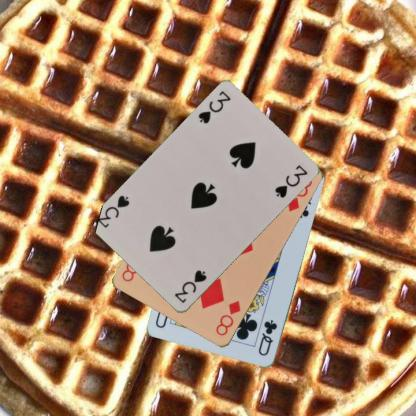3s: (195, 88, 232, 126), (172, 268, 208, 305)
8d: (213, 298, 242, 338)
Qc: (256, 317, 279, 358)
